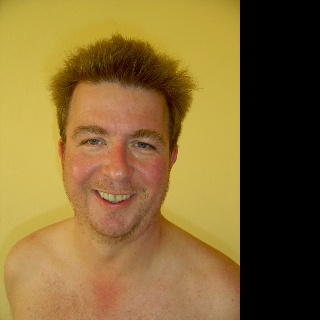without_mask: (60, 78, 168, 241)
